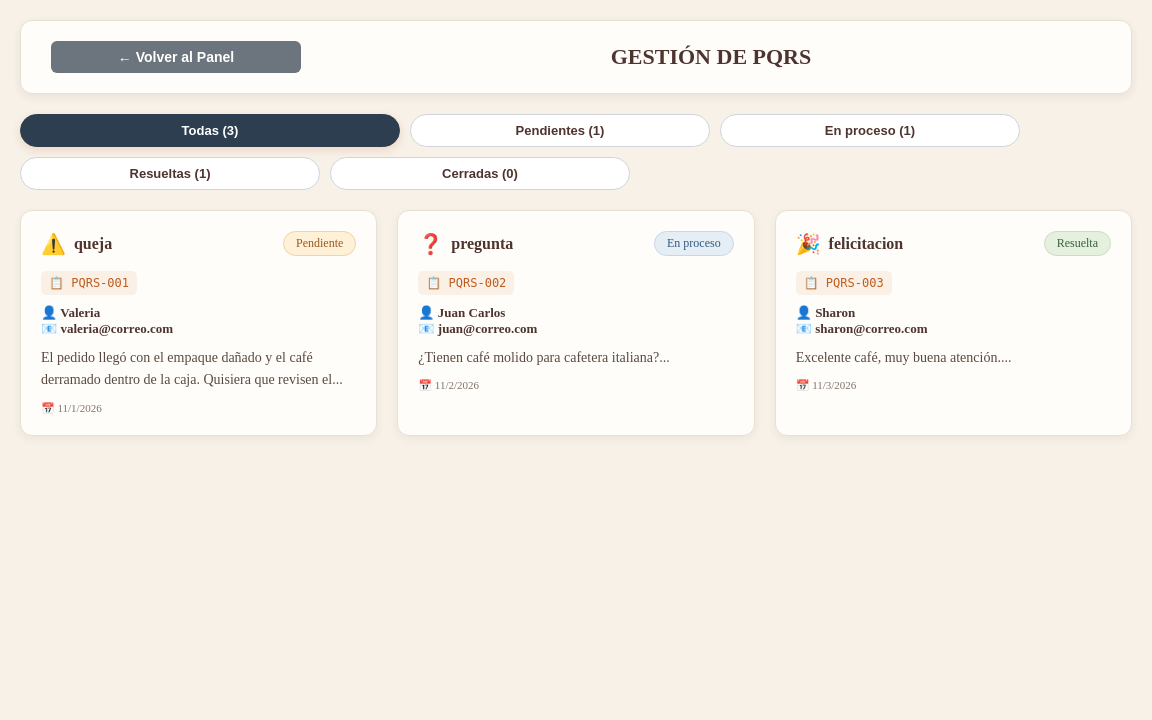
VerPqrs - actualizar estado › recarga la lista después de actualizar
This screenshot has width=1152, height=720.
Expected: the heading "GESTIÓN DE PQRS" is shown, [611,44,811,69]
Click the text "📋 PQRS-001" at (89, 283), box [41,271,137,295]
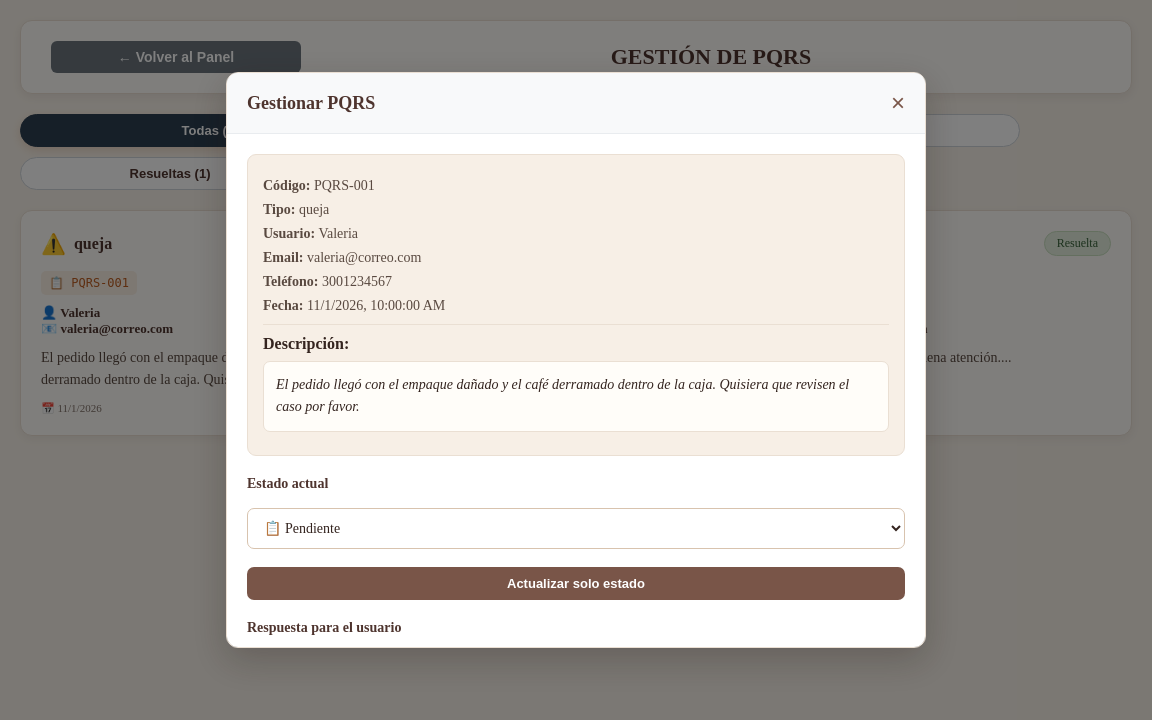
Expected: the heading "Gestionar PQRS" is shown, [247,92,375,114]
Select "🔒 Cerrada" in the dropdown at (576, 528), box [247,508,905,549]
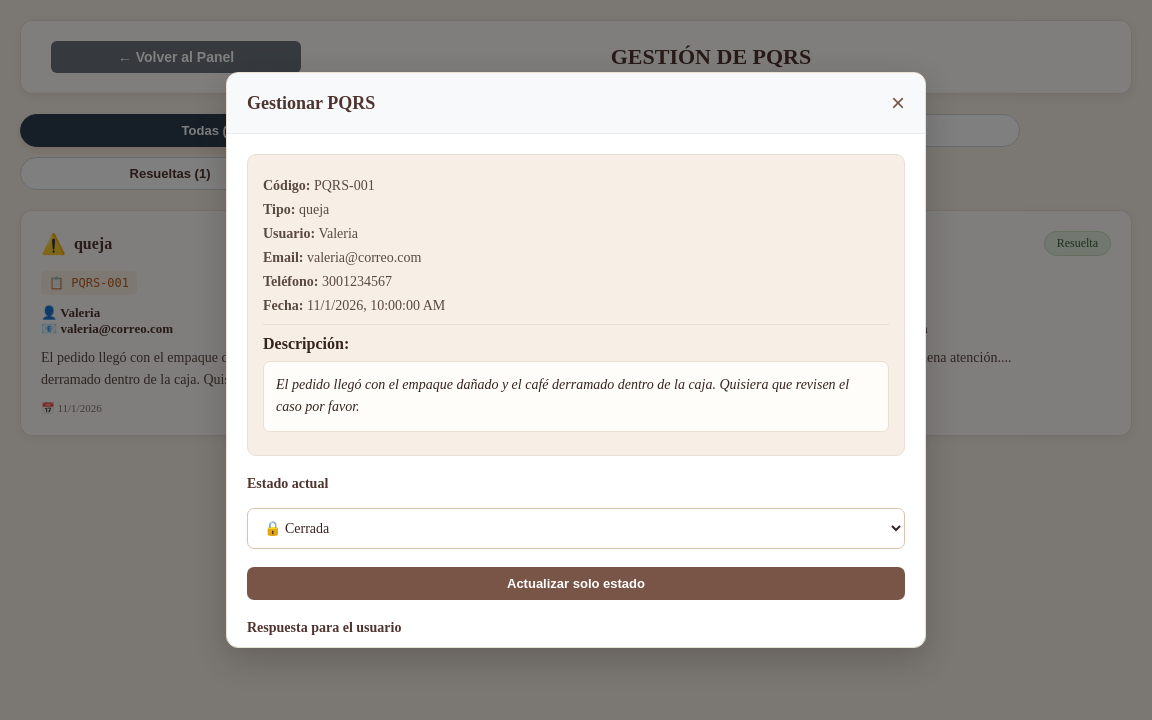
Click the button "Actualizar solo estado" at (576, 583), box [247,567,905,600]
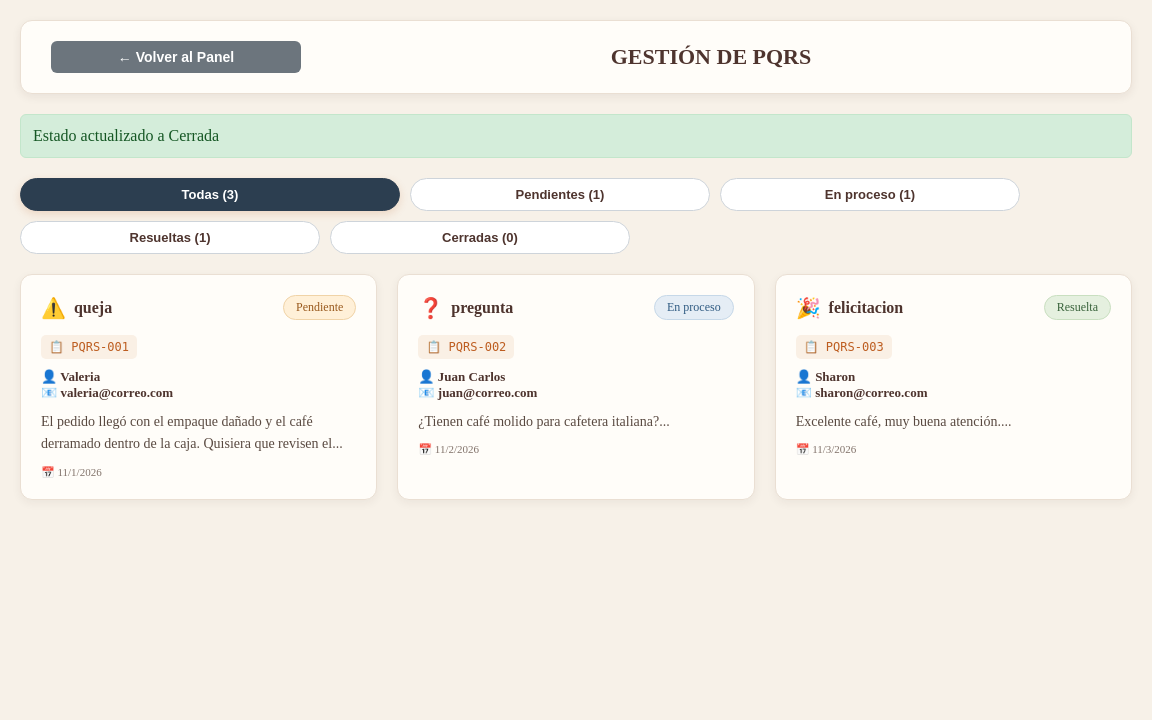
Expected: the text "Estado actualizado a Cerrada" is shown, [20,114,1132,158]
